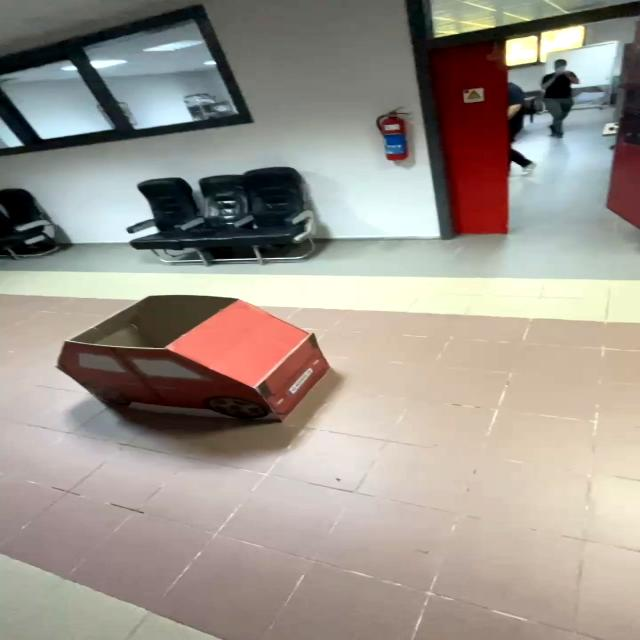red_car: (28, 281, 361, 459)
